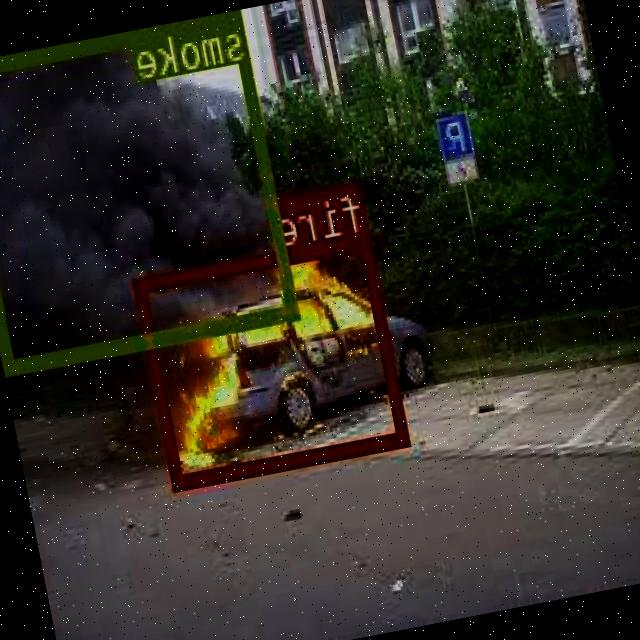fire: (136, 232, 412, 486)
smoke: (0, 9, 300, 370)
